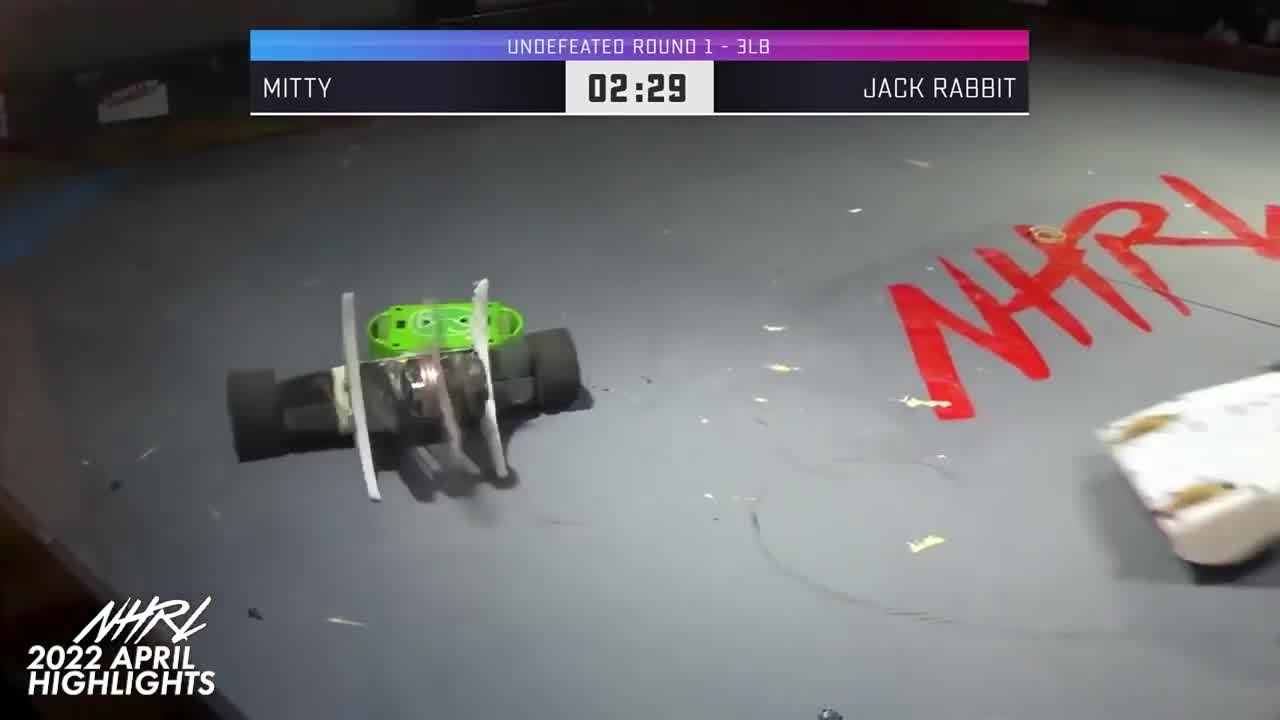combatbot: (235, 332, 585, 459), (1095, 355, 1280, 569), (367, 302, 524, 355)
